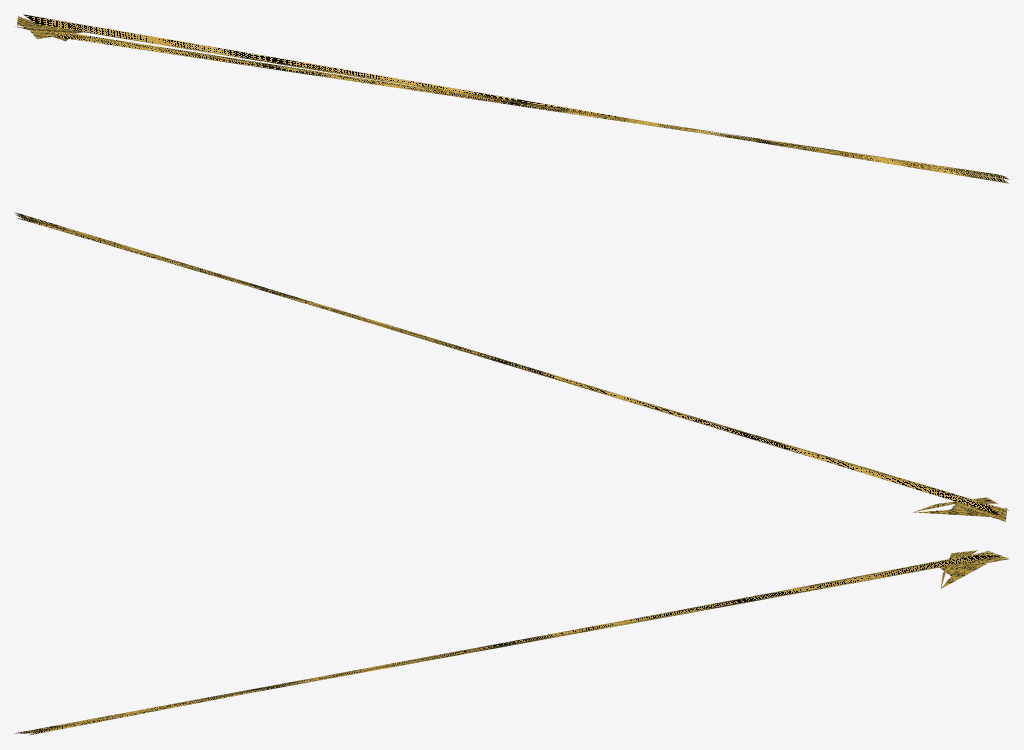
3 renders of one model, top to bottom at view 1: azimuth 30°, elevation 25°; view 2: azimuth 210°, elevation 25°; view 3: azimuth 270°, elevation 25°, orthographic.
Visible parts, largest first — view 1: ef_747; view 2: ef_747; view 3: ef_747.
Boxes of the visible parts, left/top/right/bottom form: ef_747: left=16, top=14, right=1009, bottom=183; ef_747: left=15, top=212, right=1008, bottom=521; ef_747: left=15, top=550, right=1008, bottom=735.
Size of the model in its own units: 6.82 by 0.9653 by 11.21.
1 material, 1 textured.
